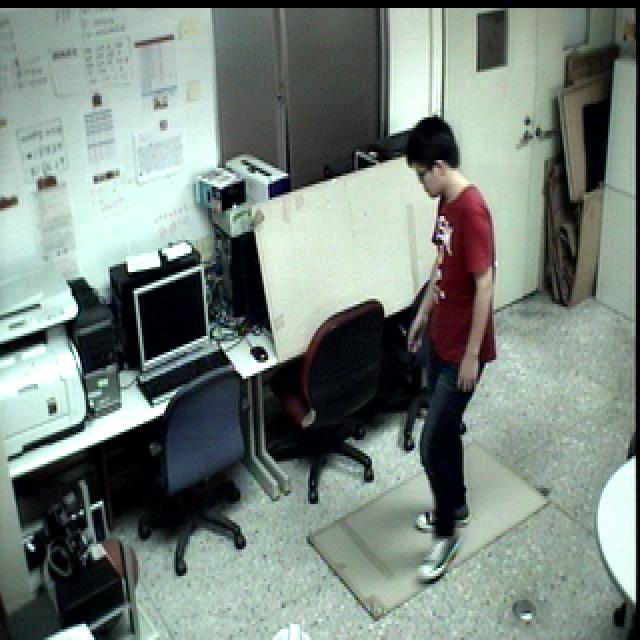stand: (387, 100, 506, 588)
